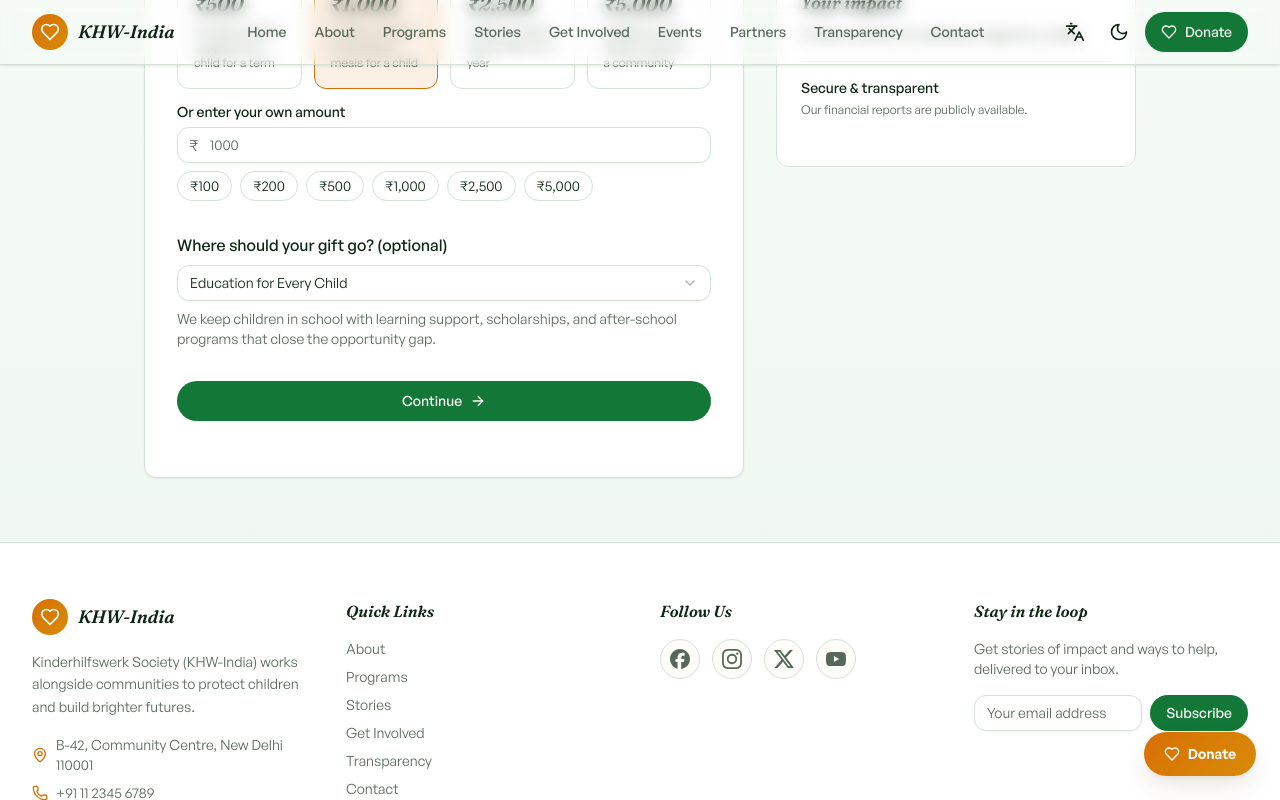
Test case: Donate flow › records a donation through the mock payment flow
(page scrolled)
Note: amount (default ₹1,000 selected) → continue.
Step 1. Click the button with test id "donate.continue_button" → click(444, 400), box [177, 380, 711, 420]
(page scrolled)
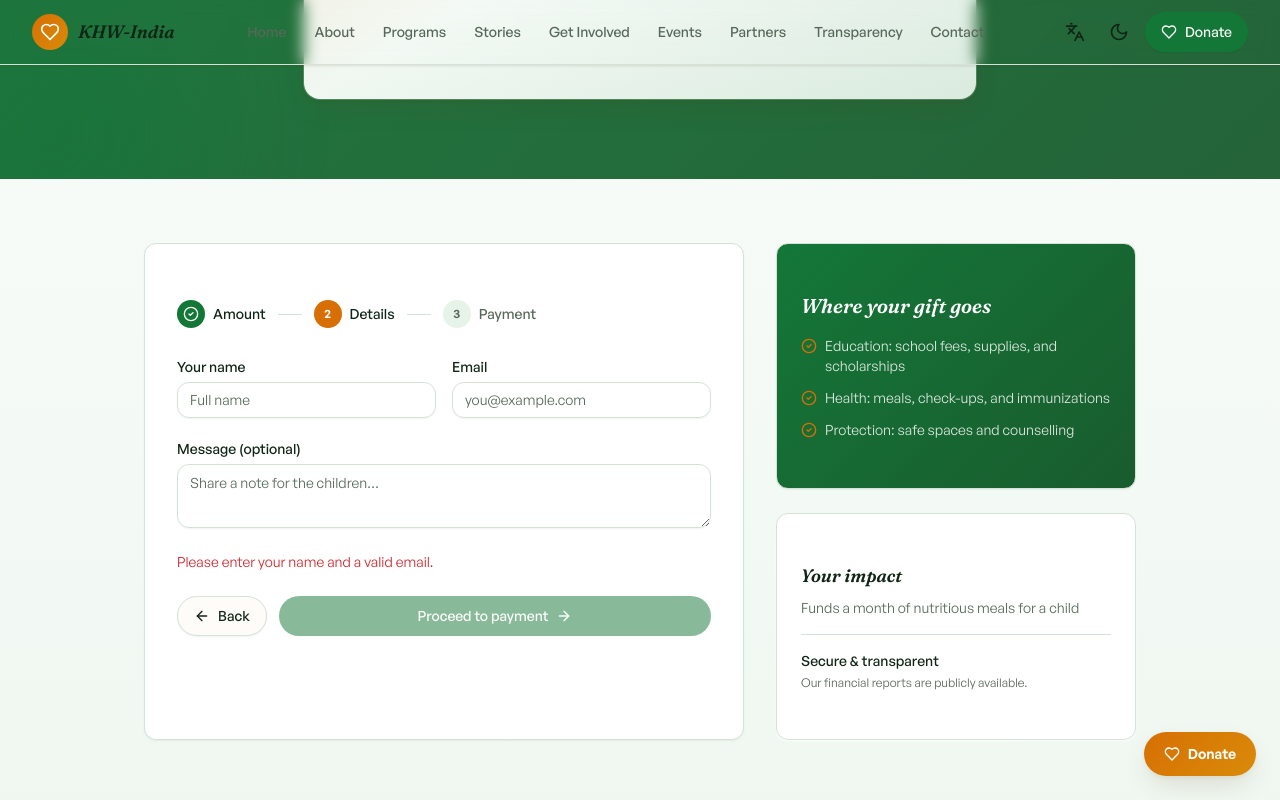
Step 2. Type "Ada Lovelace" into the field with test id "donate.name" → (306, 400), box [177, 382, 436, 418]
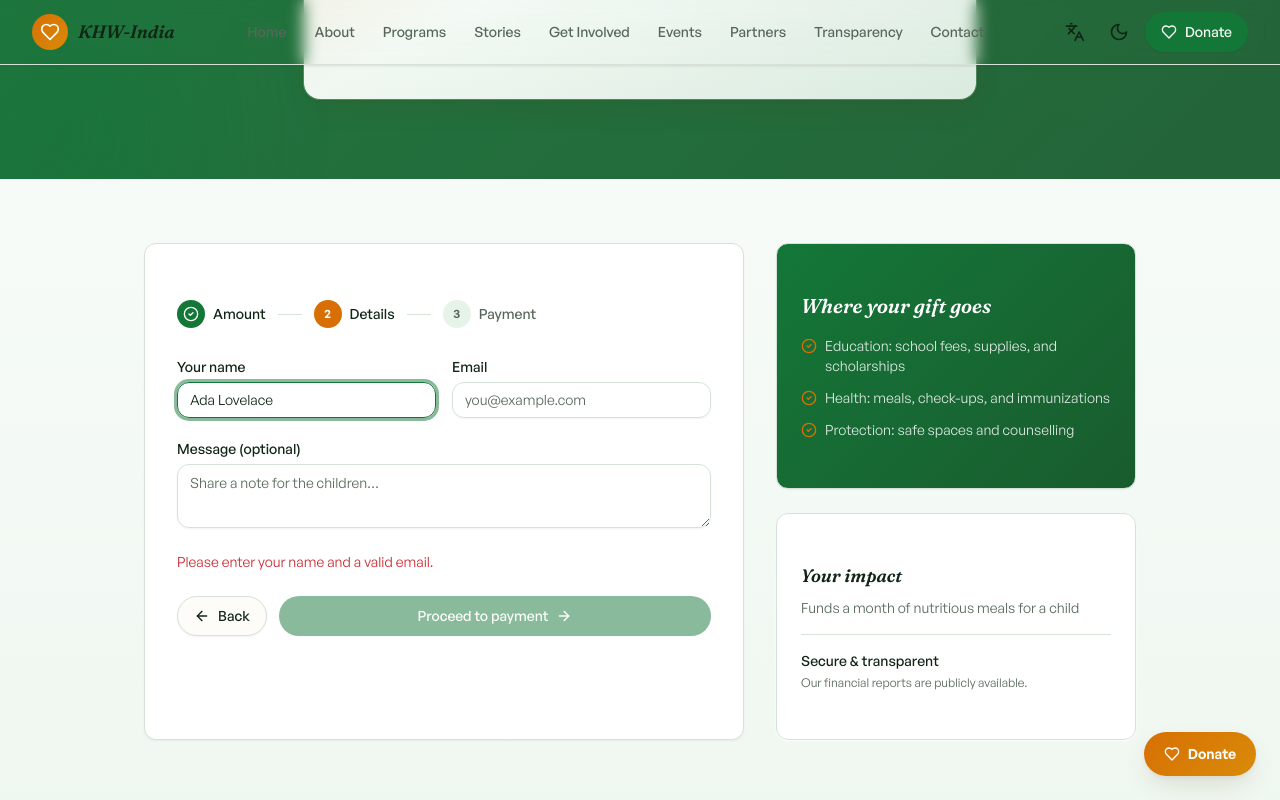
Step 3. Type "ada@example.com" into the field with test id "donate.email" → (582, 400), box [452, 382, 711, 418]
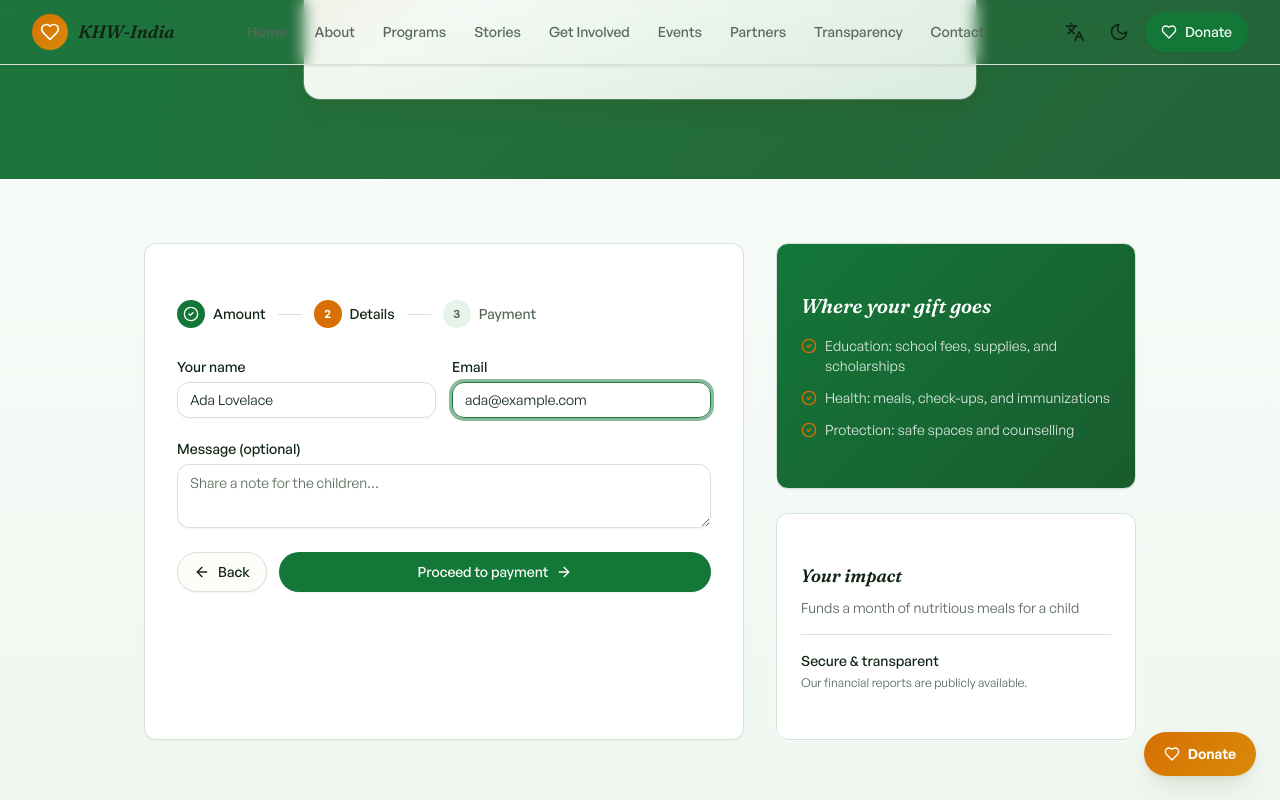
Step 4. Click the button with test id "donate.continue_button" → click(495, 572), box [279, 552, 711, 592]
(page scrolled)
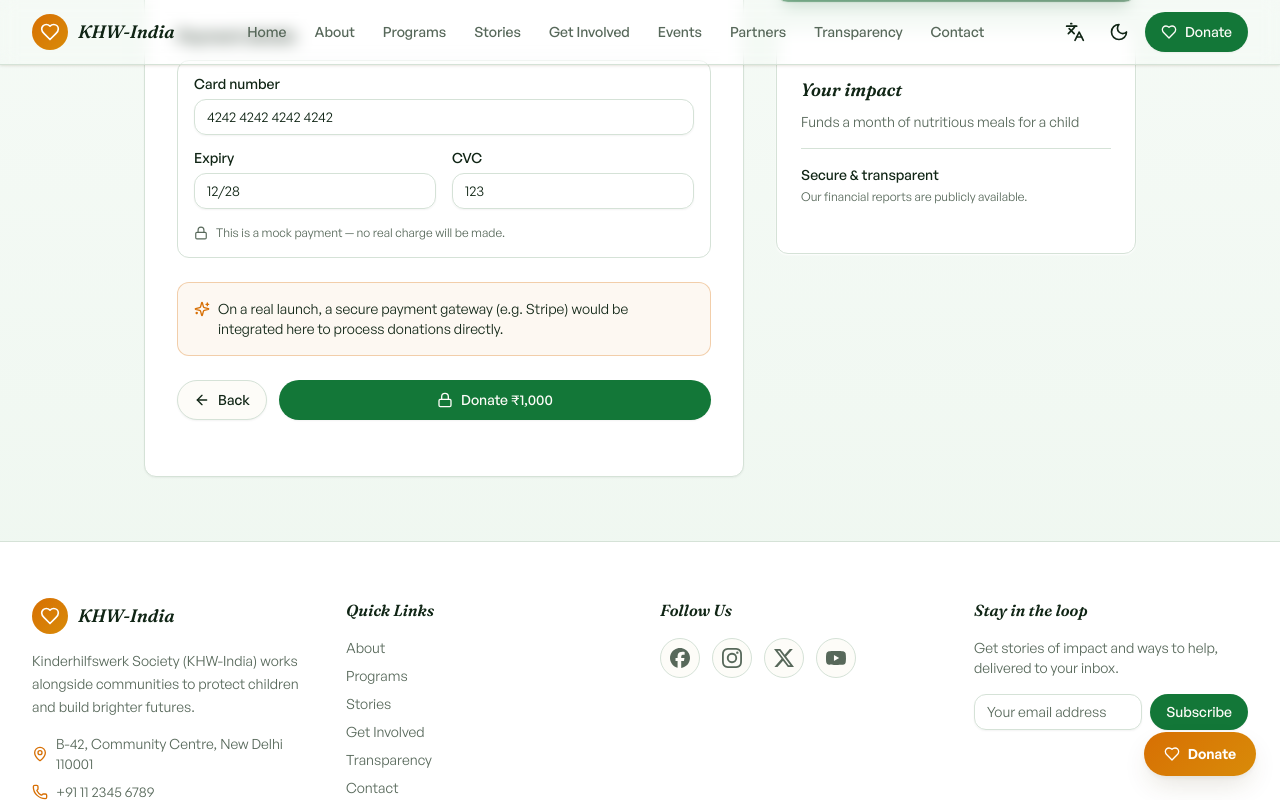
Note: payment → complete.
Step 5. Click the button with test id "donate.pay_button" → click(495, 400), box [279, 380, 711, 420]
(page scrolled)
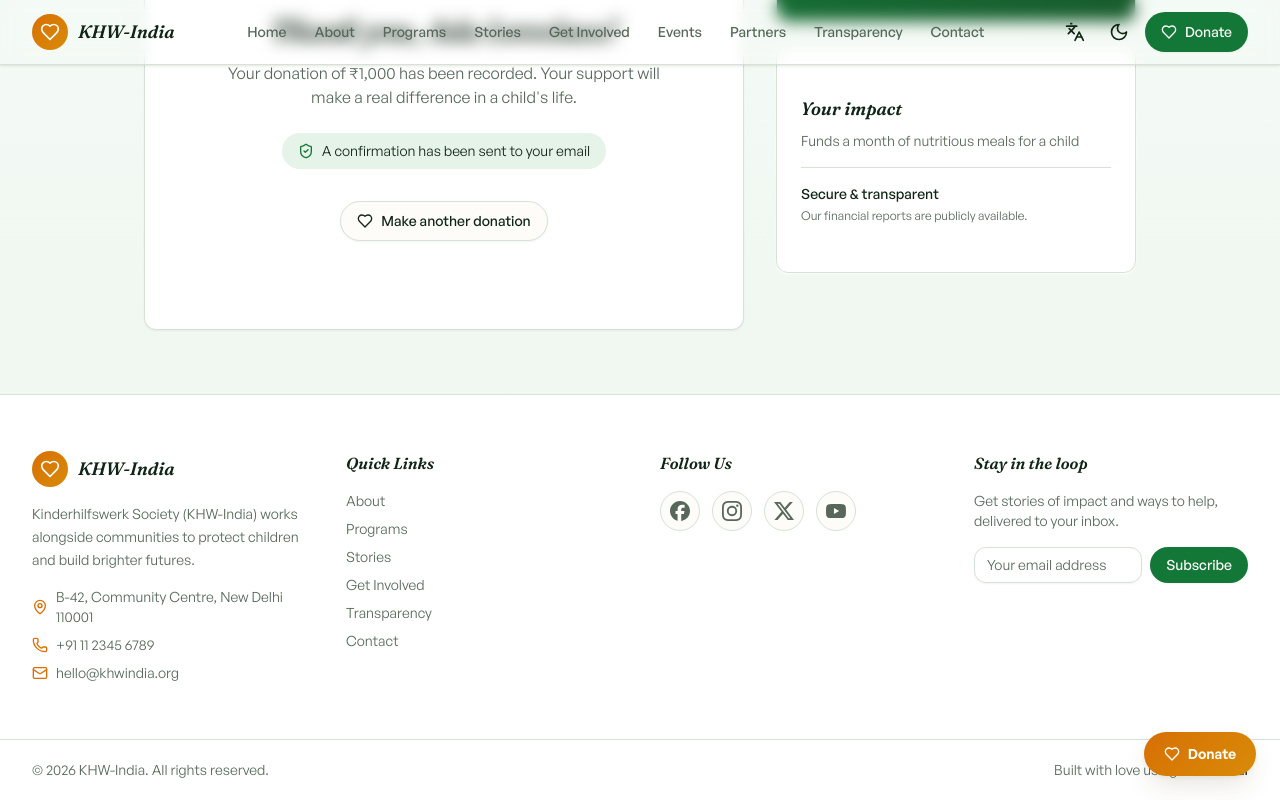
Result: the heading "Thank you, Ada Lovelace!" is shown at [270, 13, 618, 49]
